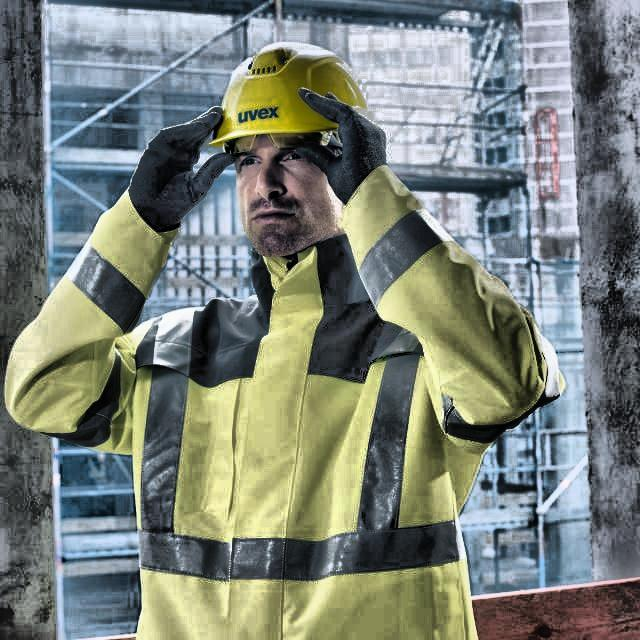person: (61, 49, 563, 640)
